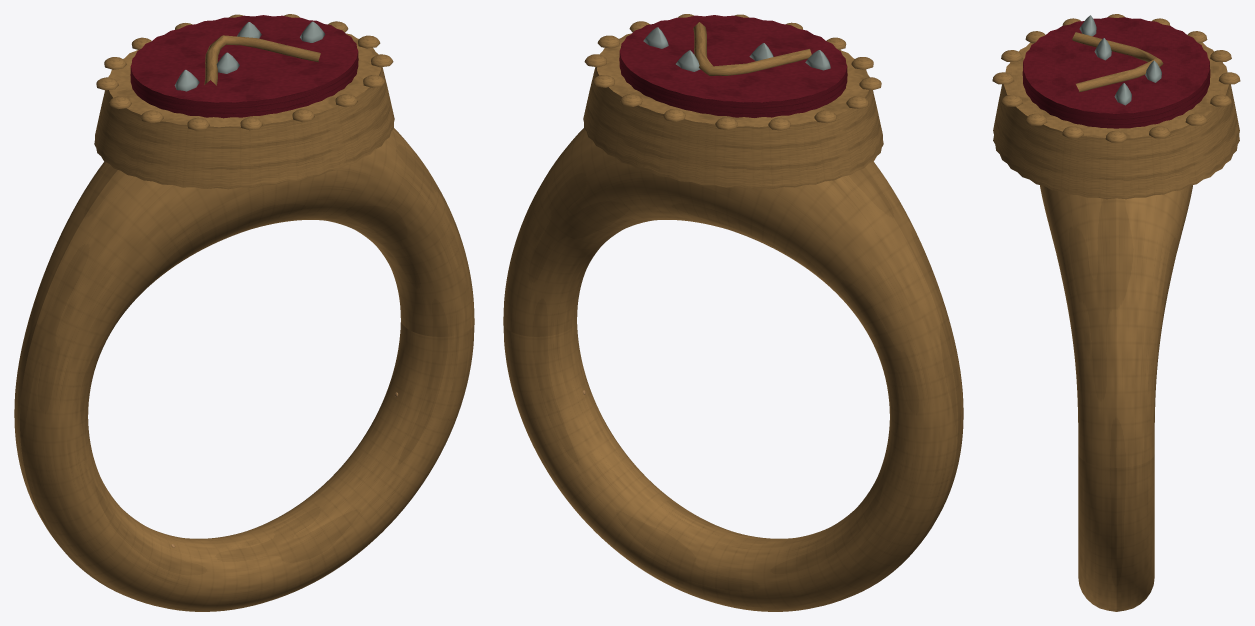
The picture shows the model from 3 angles, left to right: view 1: azimuth 30°, elevation 25°; view 2: azimuth 150°, elevation 25°; view 3: azimuth 270°, elevation 25°; orthographic projection. The views are drawn at different scales.
Parts seen in each view (by area): view 1: aged alloy edge, polished cabochon stone, mineral inclusion; view 2: aged alloy edge, polished cabochon stone, mineral inclusion; view 3: aged alloy edge, polished cabochon stone, mineral inclusion.
Part boxes in pixels (left/top/right/bottom): aged alloy edge: left=14, top=14, right=474, bottom=611; polished cabochon stone: left=130, top=15, right=358, bottom=118; mineral inclusion: left=174, top=21, right=325, bottom=91; aged alloy edge: left=503, top=14, right=963, bottom=611; polished cabochon stone: left=619, top=15, right=847, bottom=117; mineral inclusion: left=643, top=27, right=830, bottom=71; aged alloy edge: left=992, top=14, right=1240, bottom=611; polished cabochon stone: left=1022, top=17, right=1210, bottom=128; mineral inclusion: left=1079, top=15, right=1161, bottom=105.
Size of the model in its own units: 0.0488 by 0.0582 by 0.0243.
4 materials, 2 textured.
